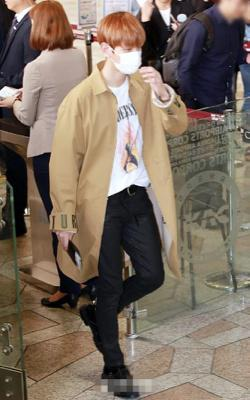OK: (115, 42, 143, 75)
